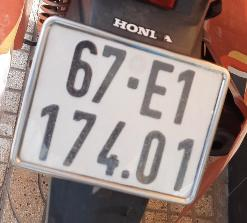0: (135, 127, 166, 189)
1: (165, 63, 202, 129), (172, 135, 196, 197), (36, 102, 60, 162)
4: (98, 117, 130, 179)
6: (61, 35, 103, 102)
7: (89, 40, 132, 109), (59, 102, 100, 170)
E: (136, 56, 179, 123)
